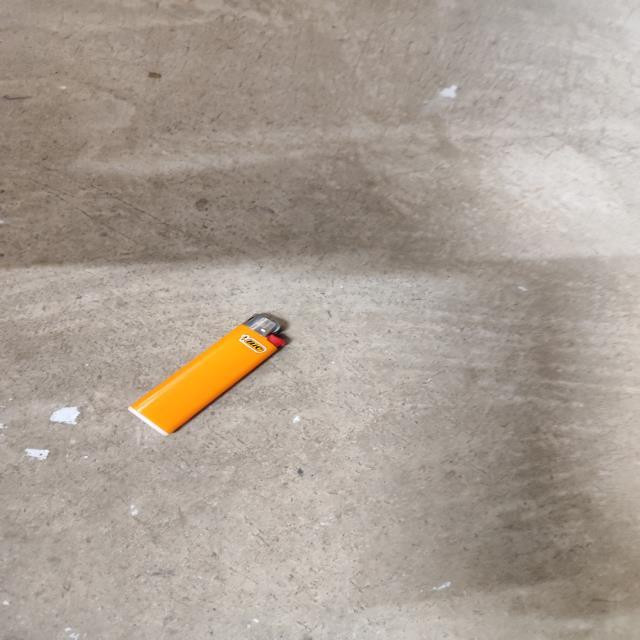lighter: (129, 313, 287, 434)
